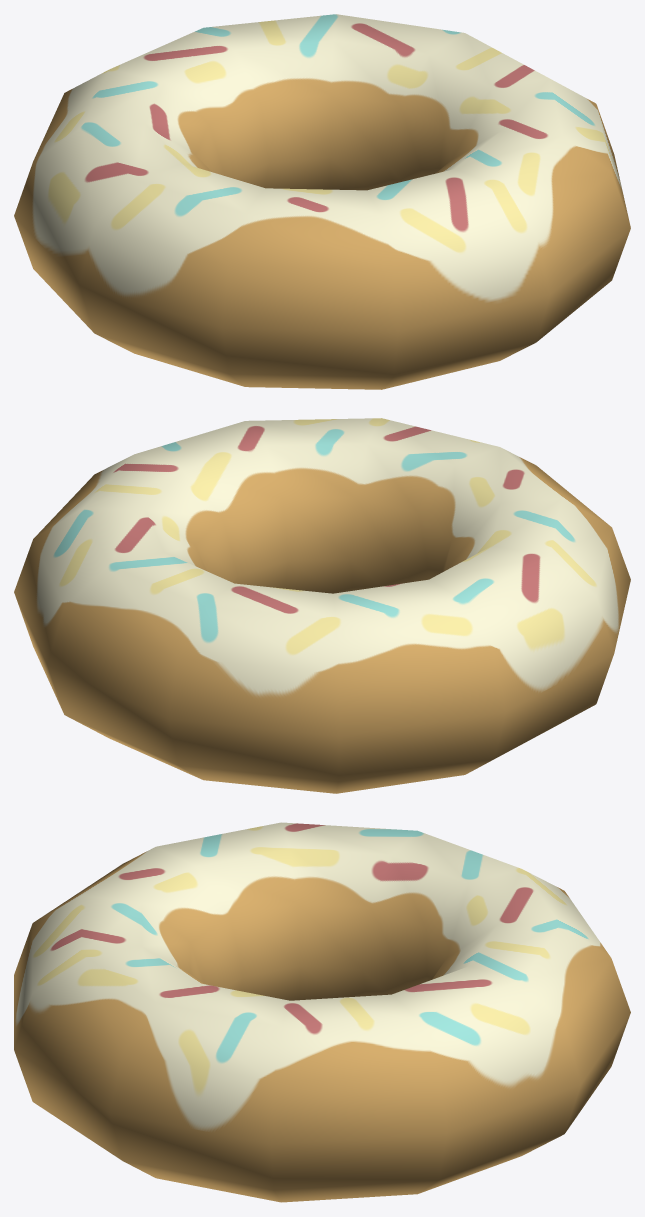
File: Donut.FBX
3 renders of one model, top to bottom at view 1: azimuth 30°, elevation 25°; view 2: azimuth 150°, elevation 25°; view 3: azimuth 270°, elevation 25°, orthographic.
Visible parts, largest first — view 1: Torus001; view 2: Torus001; view 3: Torus001.
Part boxes in pixels (<box>): Torus001: <box>14,14,630,389</box>; Torus001: <box>14,418,630,793</box>; Torus001: <box>14,822,630,1202</box>.
Bounding box in the file's own units: 54.25 × 16.85 × 53.7.
